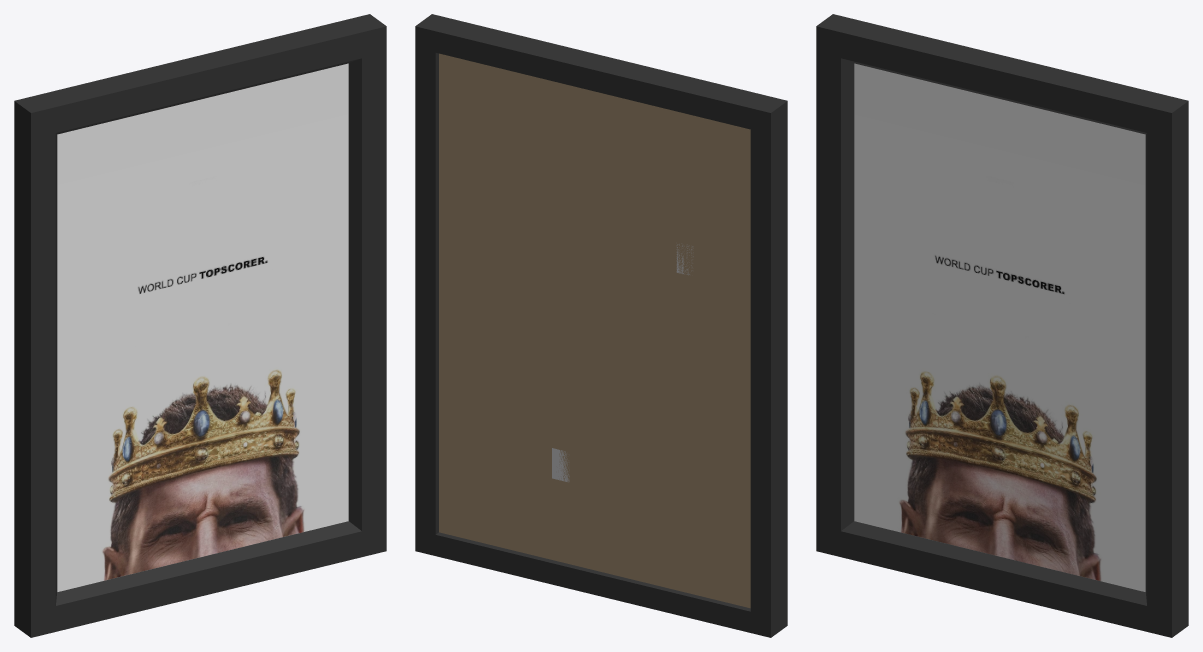
The model's file is messi-world-cup-topscorer-20x30.glb.
3 views of the same model, side by side, from view 1: azimuth 30°, elevation 25°; view 2: azimuth 150°, elevation 25°; view 3: azimuth 330°, elevation 25° (orthographic).
Parts seen in each view (by area): view 1: LAWHA 20x30; view 2: LAWHA 20x30; view 3: LAWHA 20x30.
Part boxes in pixels (x1,y1,x2,y2): LAWHA 20x30: (14,14,386,637); LAWHA 20x30: (415,14,787,637); LAWHA 20x30: (816,14,1188,637).
Size of the model in its own units: 0.244 by 0.344 by 0.02.
Materials: 4 (1 with a texture image).
